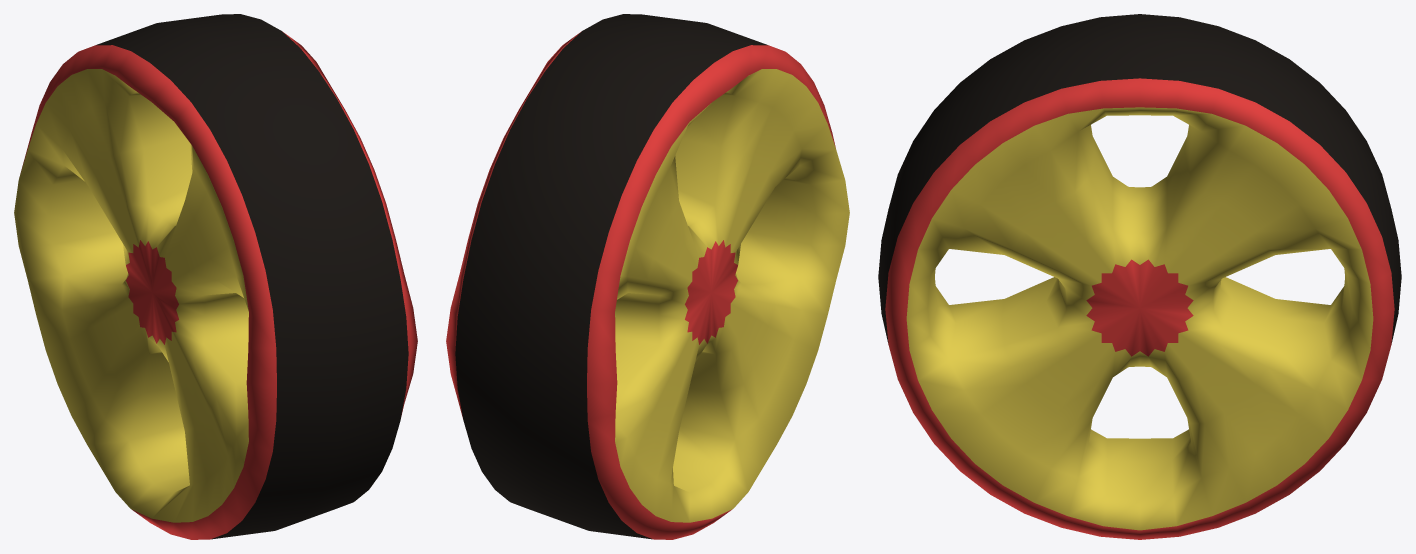
File: Rueda_Maga.fbx
3 views of the same model, side by side, from view 1: azimuth 30°, elevation 25°; view 2: azimuth 150°, elevation 25°; view 3: azimuth 270°, elevation 25° (orthographic).
Visible parts, largest first — view 1: polySurface64; view 2: polySurface64; view 3: polySurface64.
Part boxes in pixels (x1,y1,x2,y2): polySurface64: (14,14,417,539); polySurface64: (446,14,849,539); polySurface64: (878,14,1401,539).
Bounding box in the file's own units: 55.55 × 147 × 147.
Materials: 1 (1 with a texture image).
